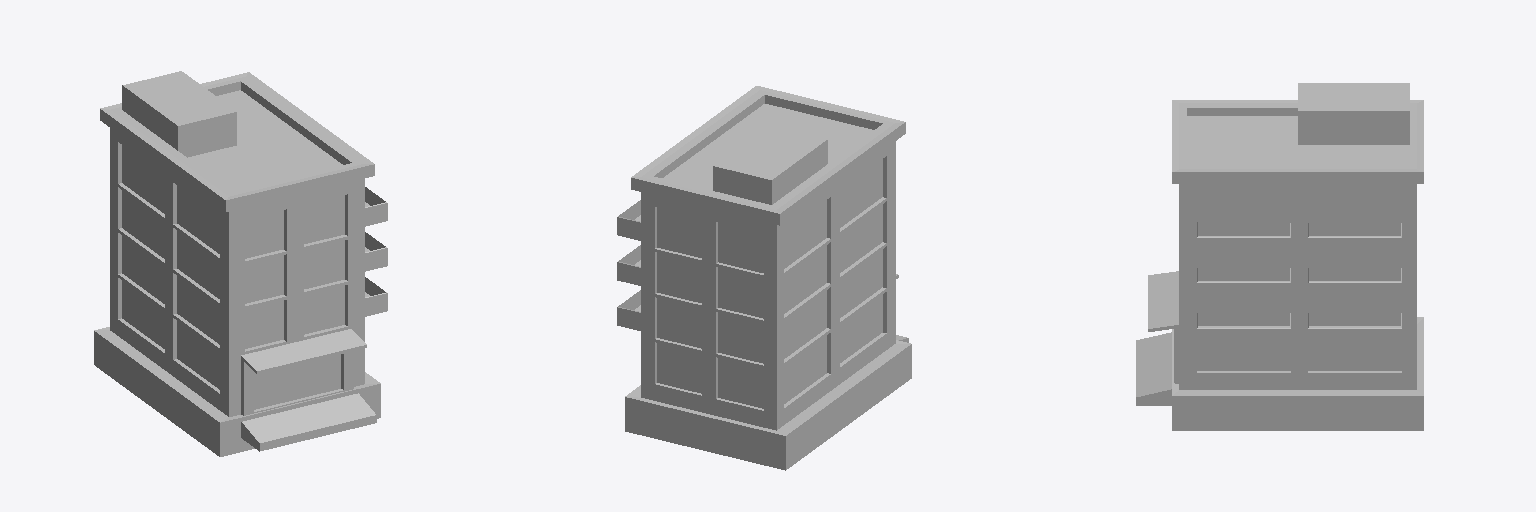
The model's file is Building1.obj.
3 renders of one model, left to right at view 1: azimuth 30°, elevation 25°; view 2: azimuth 150°, elevation 25°; view 3: azimuth 270°, elevation 25°, orthographic.
Parts seen in each view (by area): view 1: House; view 2: House; view 3: House.
Boxes of the visible parts, x1=… form: House: x1=94, y1=71, x2=387, y2=456; House: x1=617, y1=86, x2=911, y2=470; House: x1=1136, y1=83, x2=1423, y2=430.
Bounding box in the file's own units: 1.11 × 1.65 × 1.54.